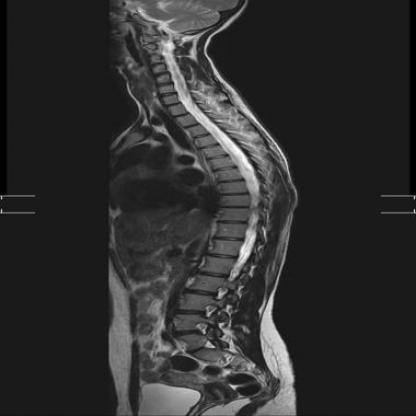Disc Bulgerotation: (219, 203, 248, 211), (219, 190, 247, 198), (216, 176, 240, 184), (152, 71, 169, 79)
